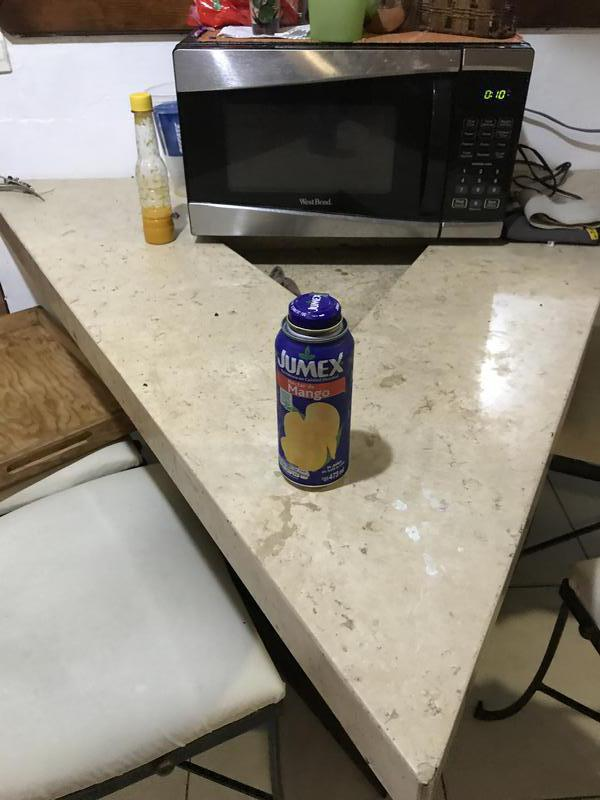jugo_jumex: (274, 297, 354, 492)
